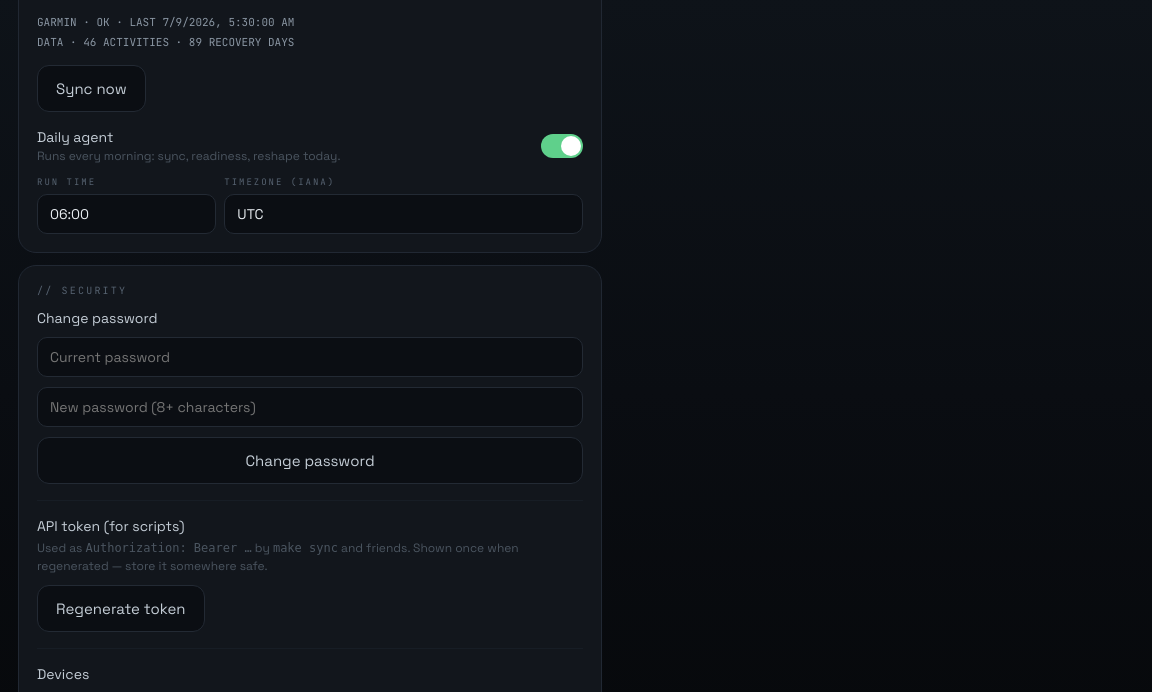
Scenario: SettingsPage › changes the password through the auth api
(page scrolled)
Type "old-password" into the password field labelled "Current password" at (310, 357), box [37,337,583,377]
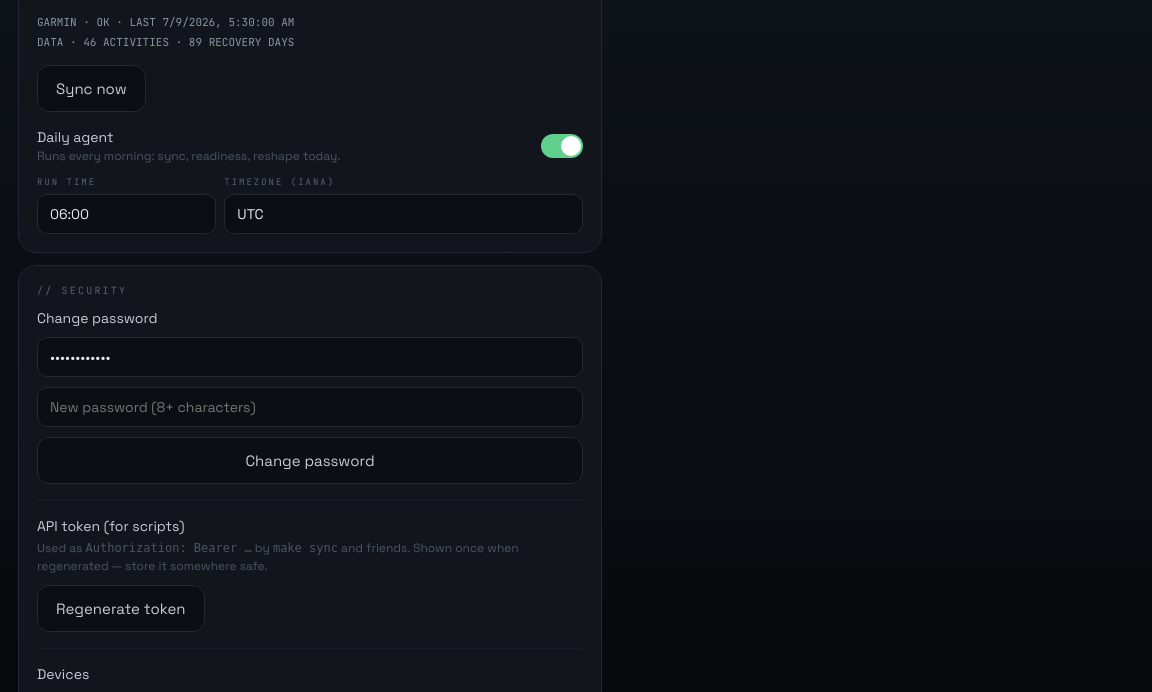
Type "new-password-1" into the password field labelled "New password" at (310, 407), box [37,387,583,427]
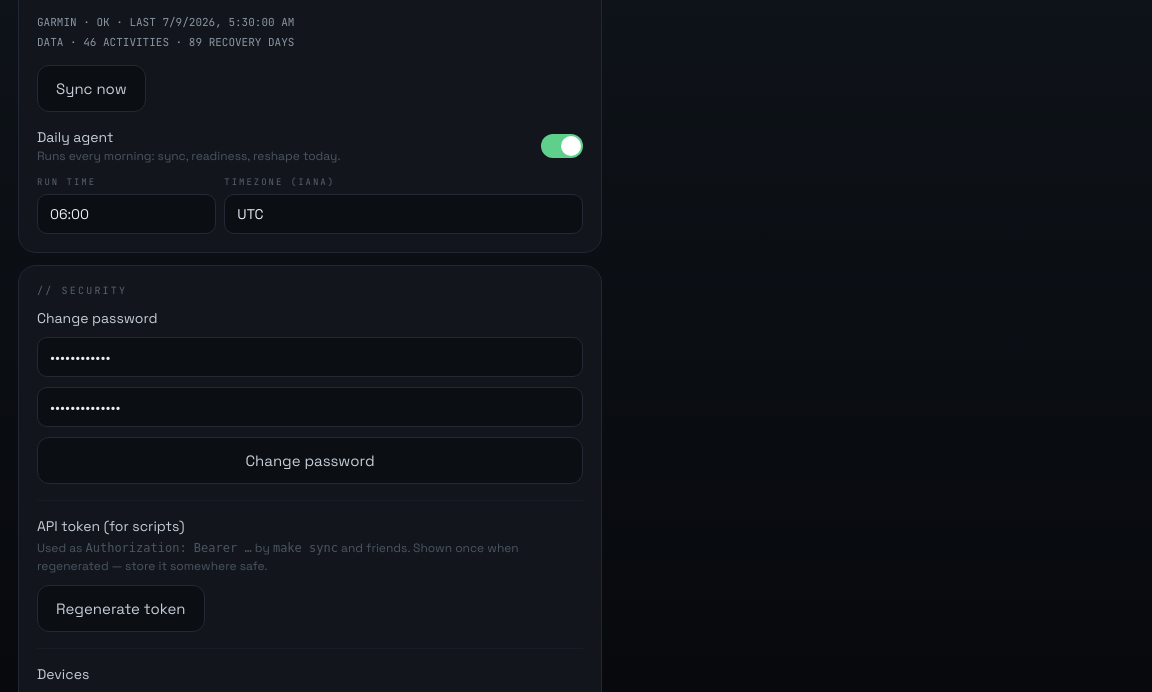
Click the button "Change password" at (310, 460), box [37,437,583,484]
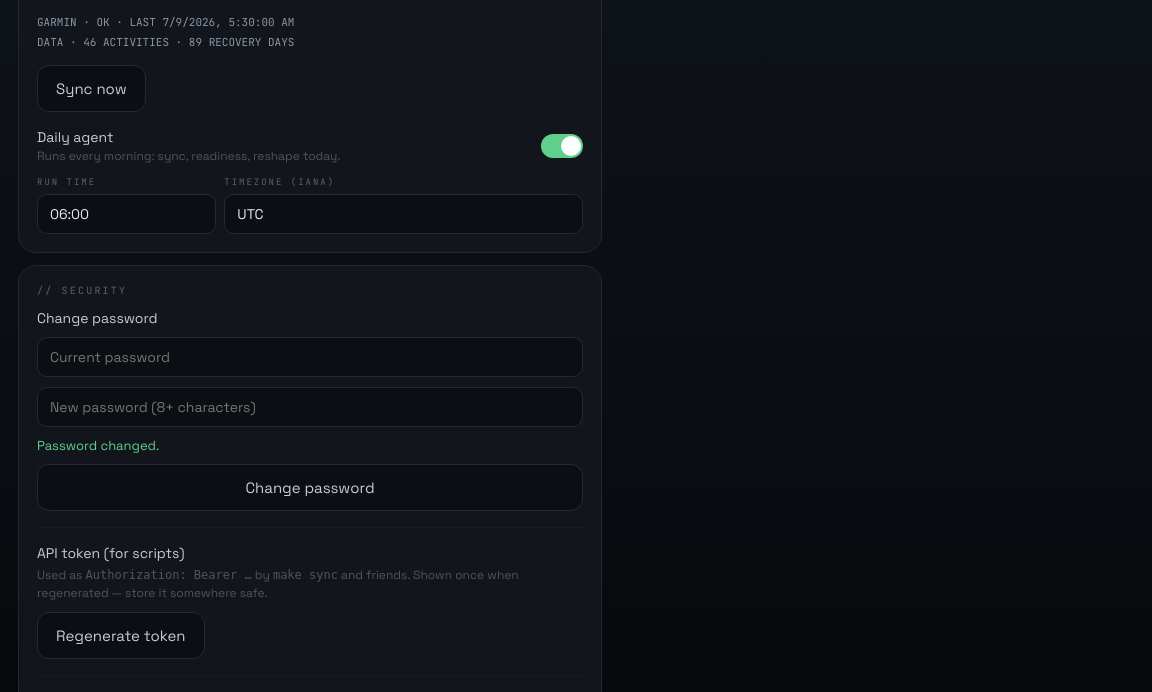
Expected: the text "Password changed." is shown, [37,437,159,454]
